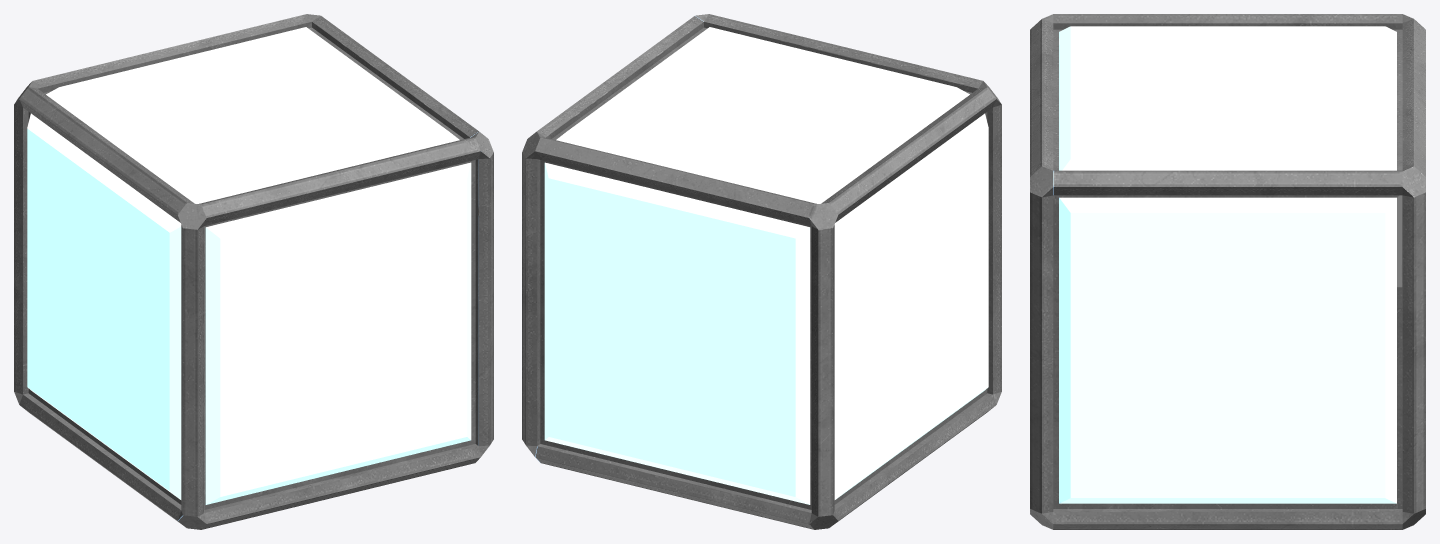
File: central-cube.glb
The picture shows the model from 3 angles, left to right: view 1: azimuth 30°, elevation 25°; view 2: azimuth 150°, elevation 25°; view 3: azimuth 270°, elevation 25°; orthographic projection. The views are drawn at different scales.
Visible parts, largest first — view 1: Central-cube; view 2: Central-cube; view 3: Central-cube.
Boxes of the visible parts, bbox=[...] form: Central-cube: bbox=[14, 14, 493, 529]; Central-cube: bbox=[522, 14, 1001, 529]; Central-cube: bbox=[1030, 14, 1425, 529].
Bounding box in the file's own units: 1.7 × 1.7 × 1.7.
Materials: 1 (1 with a texture image).
